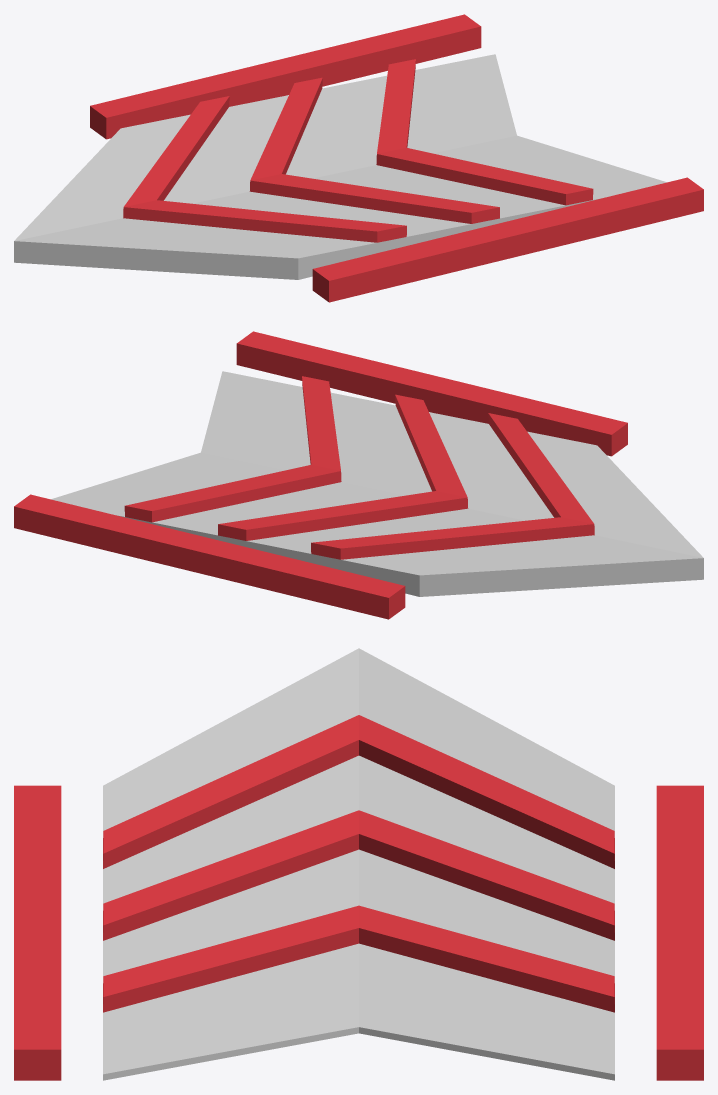
The model's file is GroundRoadBooster.fbx.
3 views of the same model, one above another, from view 1: azimuth 30°, elevation 25°; view 2: azimuth 150°, elevation 25°; view 3: azimuth 270°, elevation 25° (orthographic). The views are drawn at different scales.
Visible parts, largest first — view 1: Cube; view 2: Cube; view 3: Cube.
Part boxes in pixels (x1,y1,x2,y2): Cube: (14, 14, 703, 302); Cube: (14, 331, 703, 619); Cube: (14, 648, 703, 1080).
Size of the model in its own units: 371 by 18.01 by 269.
